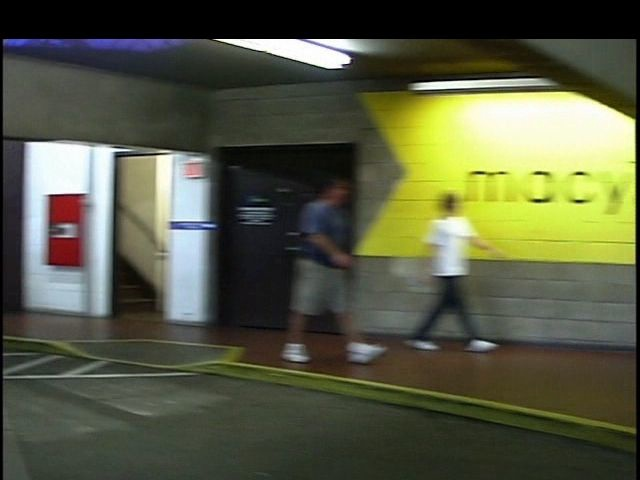person: (265, 169, 367, 368), (393, 183, 482, 361)
